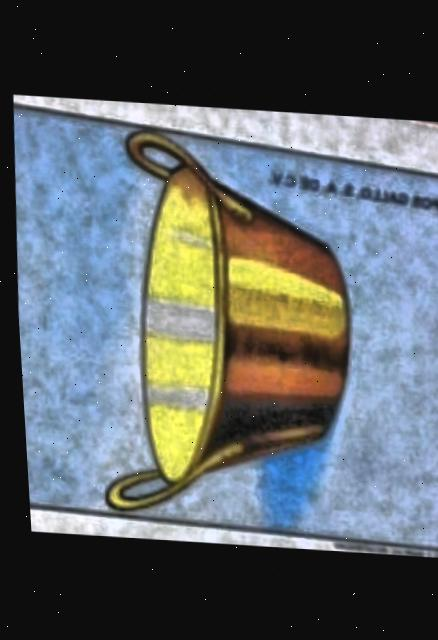El Cazo: (12, 110, 438, 550)
